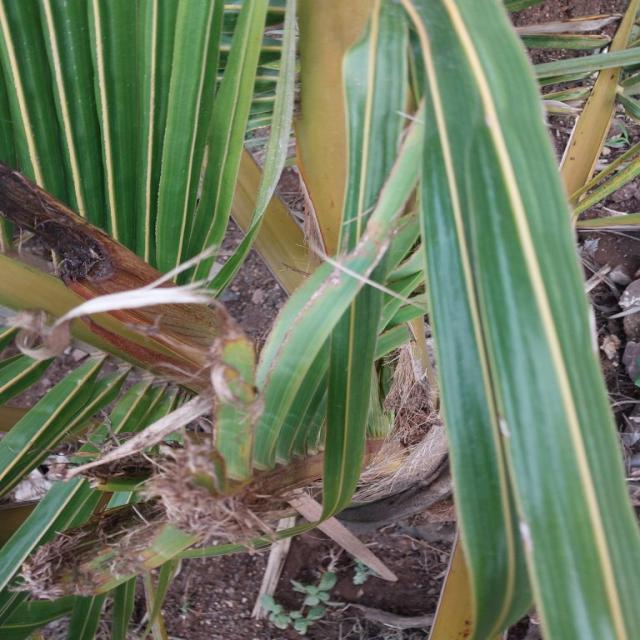bud rot: (0, 165, 162, 299), (88, 304, 222, 389)
